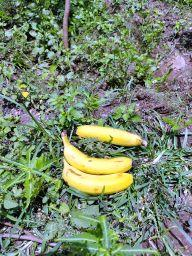banana: (60, 130, 135, 175), (60, 157, 136, 196), (75, 122, 149, 149)
